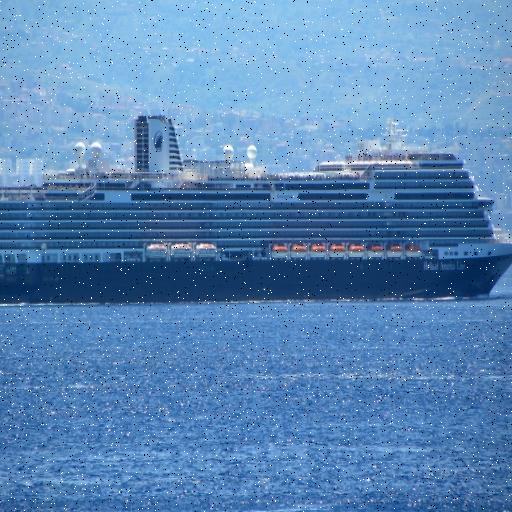cruises: (1, 114, 512, 310)
